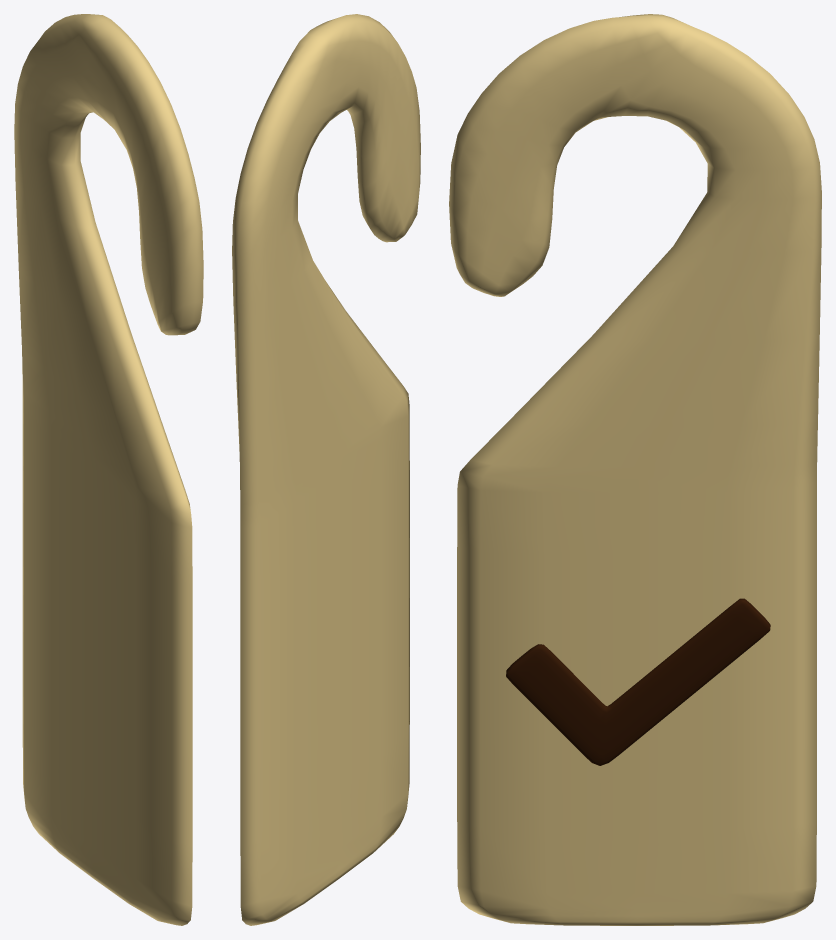
Rendered from door hanger.fbx.
3 renders of one model, left to right at view 1: azimuth 30°, elevation 25°; view 2: azimuth 150°, elevation 25°; view 3: azimuth 270°, elevation 25°, orthographic. The views are drawn at different scales.
Visible parts, largest first — view 1: Cube; view 2: Cube; view 3: Cube, Cube.001.
Boxes of the visible parts, left/top/right/bottom form: Cube: left=14, top=14, right=203, bottom=925; Cube: left=232, top=14, right=420, bottom=925; Cube: left=449, top=14, right=821, bottom=925; Cube.001: left=506, top=598, right=770, bottom=765.
Size of the model in its own units: 24.54 by 577 by 215.
